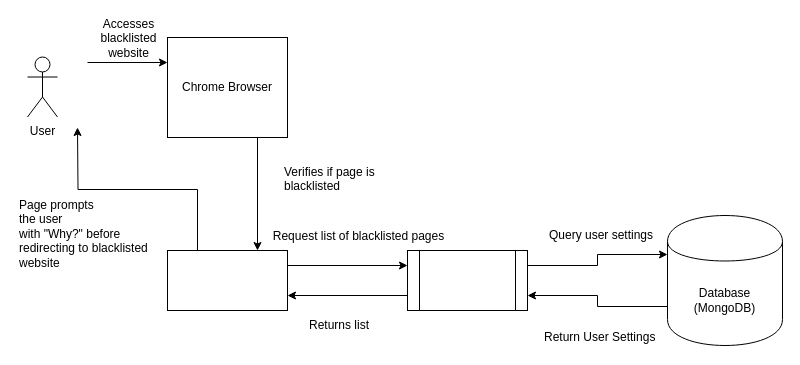
Image size: 800x365. Some labels were removed from this diagram. Each missing label, with the centre of its shape:
Chrome Extension: User Interface (HTML, CSS, Javascript): the point at 227,280
Server (Node.js, Express): the point at 467,280
